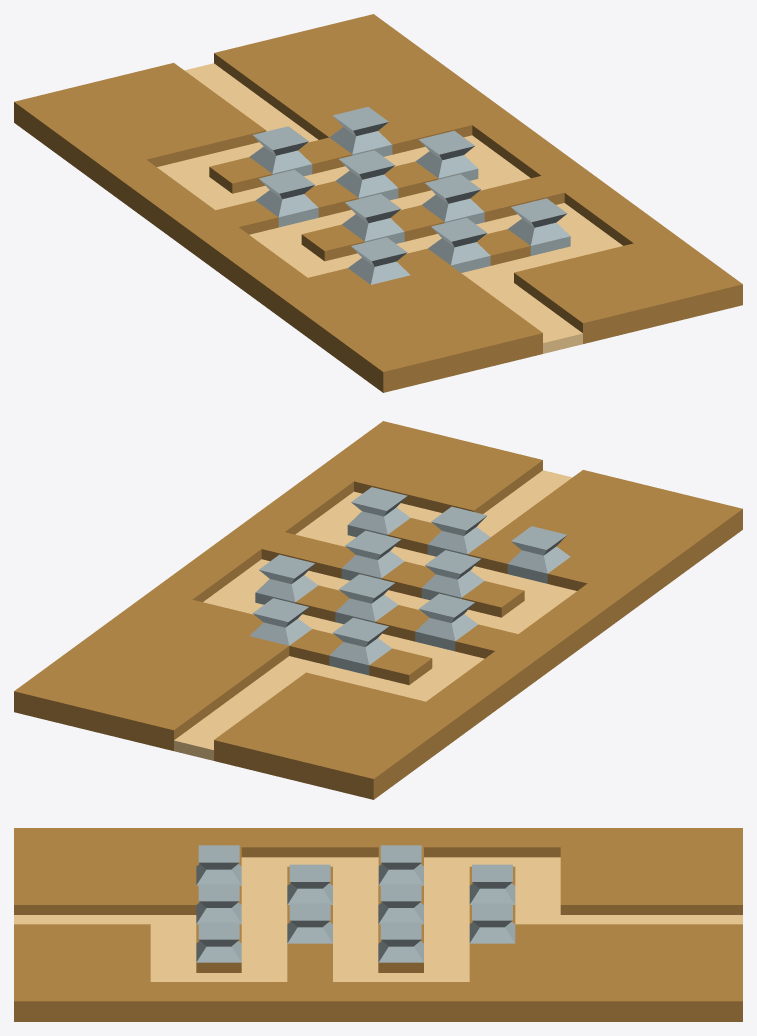
File: Level3.fbx
The picture shows the model from 3 angles, top to bottom: view 1: azimuth 30°, elevation 25°; view 2: azimuth 150°, elevation 25°; view 3: azimuth 270°, elevation 25°; orthographic projection.
Visible parts, largest first — view 1: Floor_Tile_1; view 2: Floor_Tile_1; view 3: Floor_Tile_1.
Part boxes in pixels (x1,y1,x2,y2): Floor_Tile_1: [14, 14, 742, 392]; Floor_Tile_1: [14, 421, 742, 799]; Floor_Tile_1: [14, 828, 742, 1021].
Bounding box in the file's own units: 1600 × 900 × 103.
